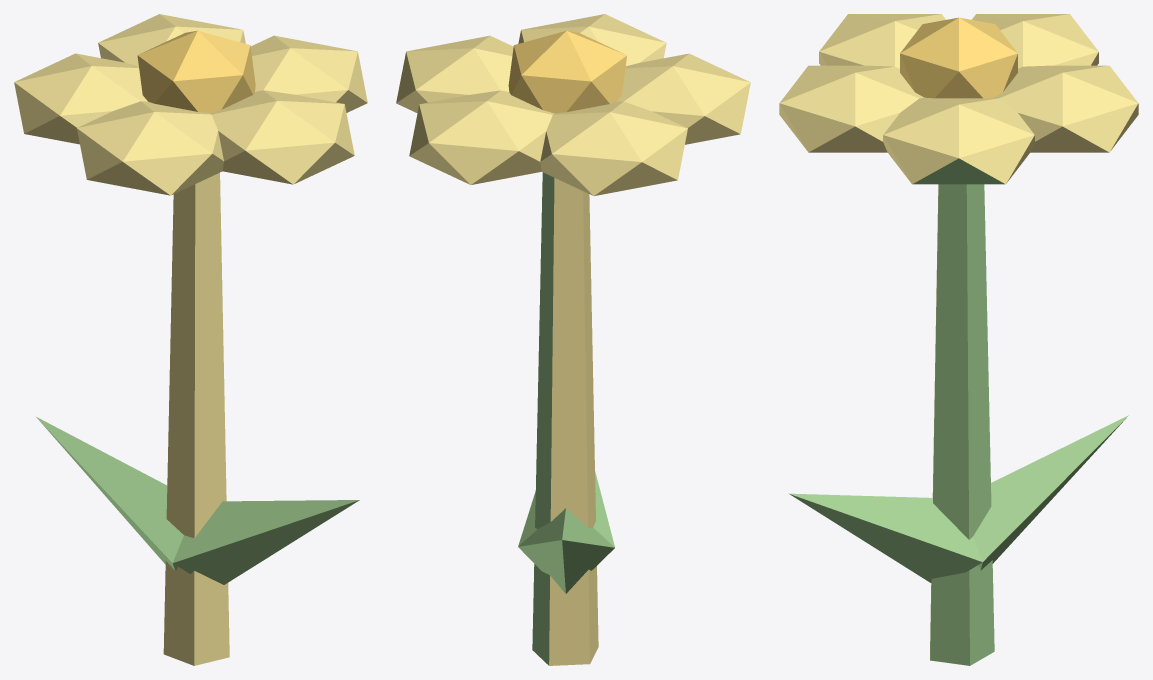
Rendered from FlowerYellow.fbx.
3 views of the same model, side by side, from view 1: azimuth 30°, elevation 25°; view 2: azimuth 150°, elevation 25°; view 3: azimuth 270°, elevation 25° (orthographic). The views are drawn at different scales.
Parts seen in each view (by area): view 1: FlowerYellow; view 2: FlowerYellow; view 3: FlowerYellow.
Boxes of the visible parts, <box> form: FlowerYellow: <box>14,14,367,665</box>; FlowerYellow: <box>396,14,750,665</box>; FlowerYellow: <box>779,14,1138,665</box>.
Bounding box in the file's own units: 0.18 × 0.353 × 0.1812.
